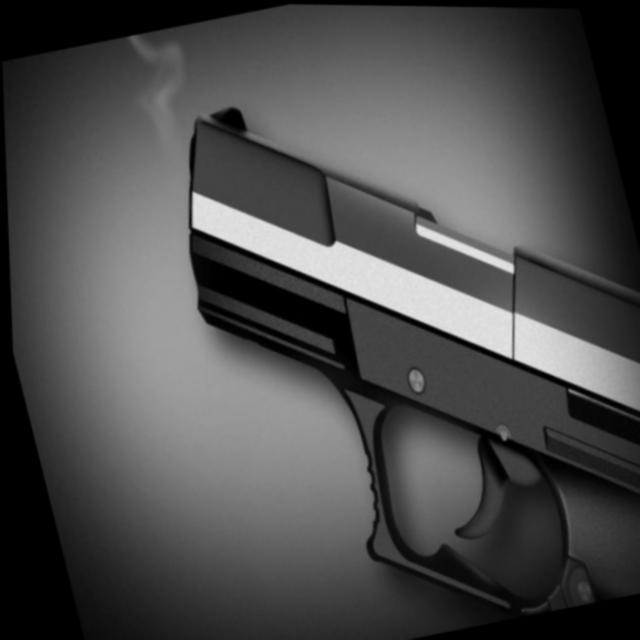weapon: (146, 25, 640, 640)
